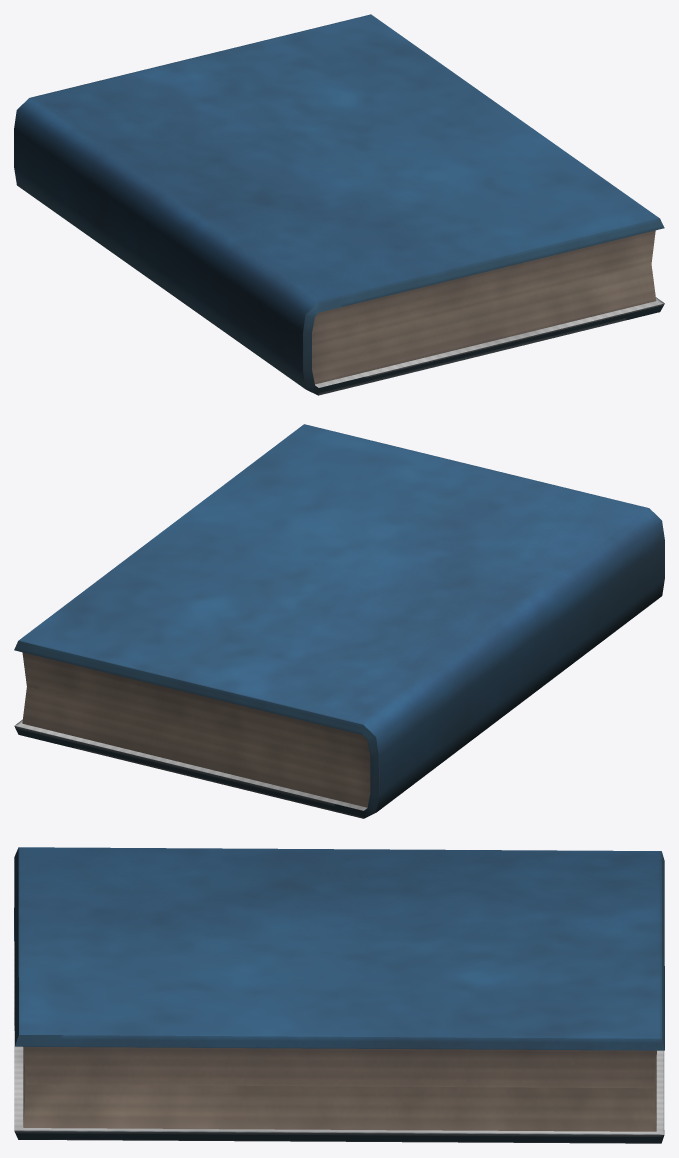
The model's file is SM_Book_02.fbx.
The picture shows the model from 3 angles, top to bottom: view 1: azimuth 30°, elevation 25°; view 2: azimuth 150°, elevation 25°; view 3: azimuth 270°, elevation 25°; orthographic projection. The views are drawn at different scales.
Parts seen in each view (by area): view 1: SM_Book_02_LOD0; view 2: SM_Book_02_LOD0; view 3: SM_Book_02_LOD0.
Boxes of the visible parts, x1,y1,x2,y2 form: SM_Book_02_LOD0: (14,14,664,395); SM_Book_02_LOD0: (14,424,664,818); SM_Book_02_LOD0: (14,847,664,1143).
Size of the model in its own units: 18.74 by 25.9 by 4.84.
1 material, 1 textured.
